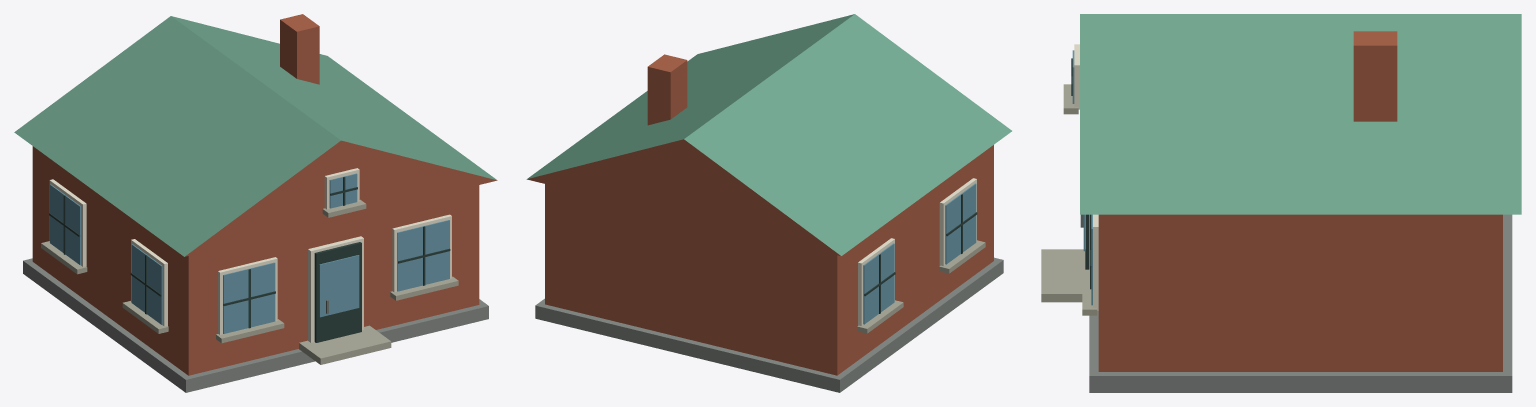
The model's file is HouseBrick.obj.
3 renders of one model, left to right at view 1: azimuth 30°, elevation 25°; view 2: azimuth 150°, elevation 25°; view 3: azimuth 270°, elevation 25°, orthographic. The views are drawn at different scales.
Visible parts, largest first — view 1: HouseBrick; view 2: HouseBrick; view 3: HouseBrick.
Part boxes in pixels (x1,y1,x2,y2): HouseBrick: (14, 14, 497, 392); HouseBrick: (526, 14, 1011, 392); HouseBrick: (1041, 14, 1521, 392).
Size of the model in its own units: 7.55 by 5.4 by 7.72.
